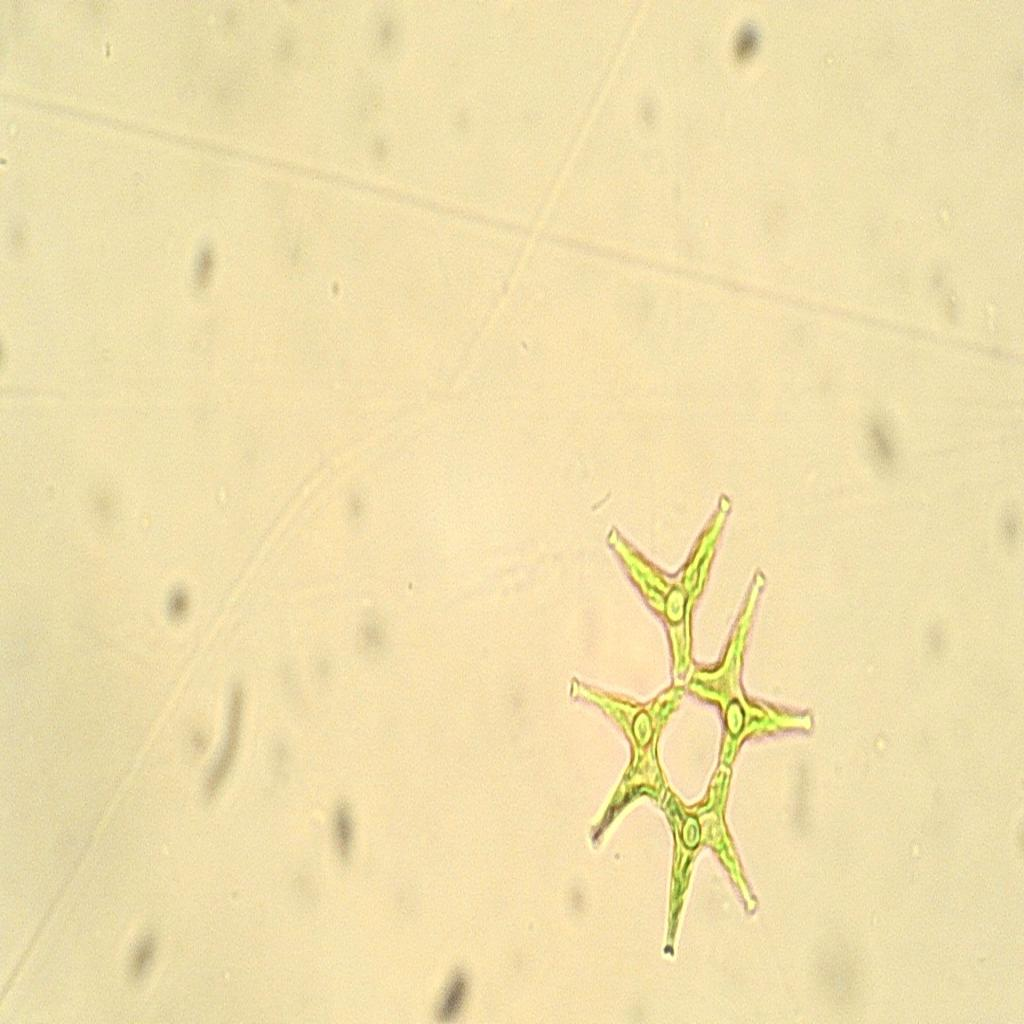Pediastrum_CT: (562, 469, 824, 969)
